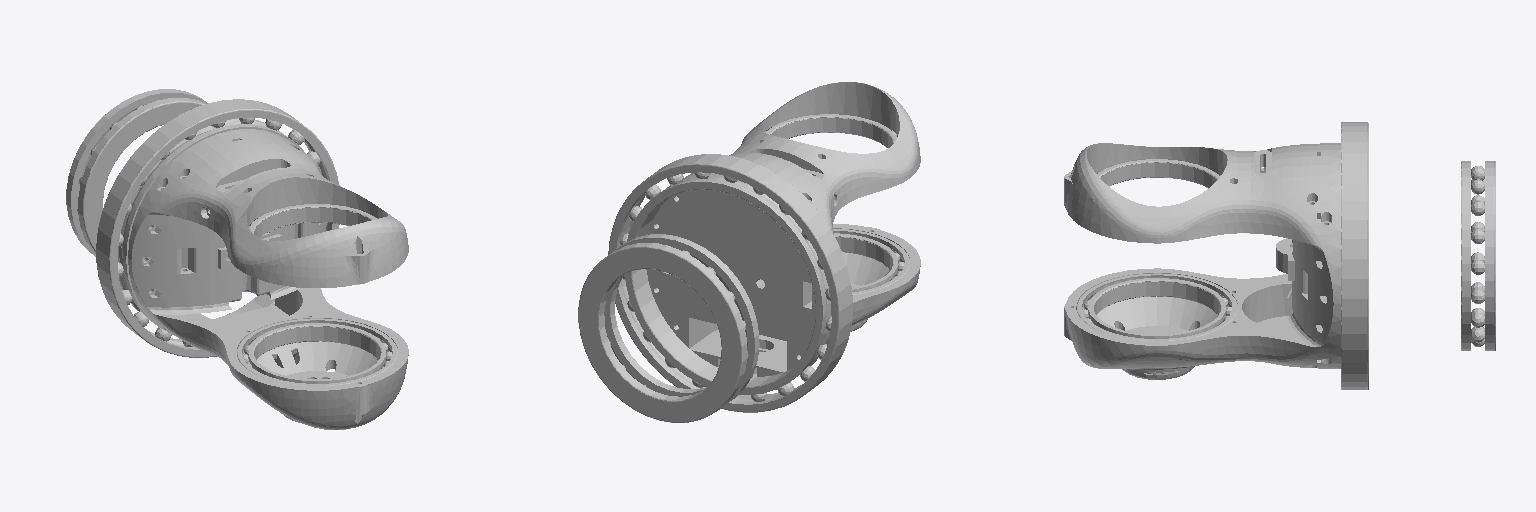
3 renders of one model, left to right at view 1: azimuth 30°, elevation 25°; view 2: azimuth 150°, elevation 25°; view 3: azimuth 270°, elevation 25°, orthographic.
Parts seen in each view (by area): view 1: X_Shoulder_r1.001; view 2: X_Shoulder_r1.001; view 3: X_Shoulder_r1.001.
Part boxes in pixels (left/top/right/bottom): X_Shoulder_r1.001: left=66, top=89, right=408, bottom=429; X_Shoulder_r1.001: left=578, top=82, right=920, bottom=422; X_Shoulder_r1.001: left=1064, top=122, right=1495, bottom=389.
Bounding box in the file's own units: 18.99 × 18.99 × 30.6.